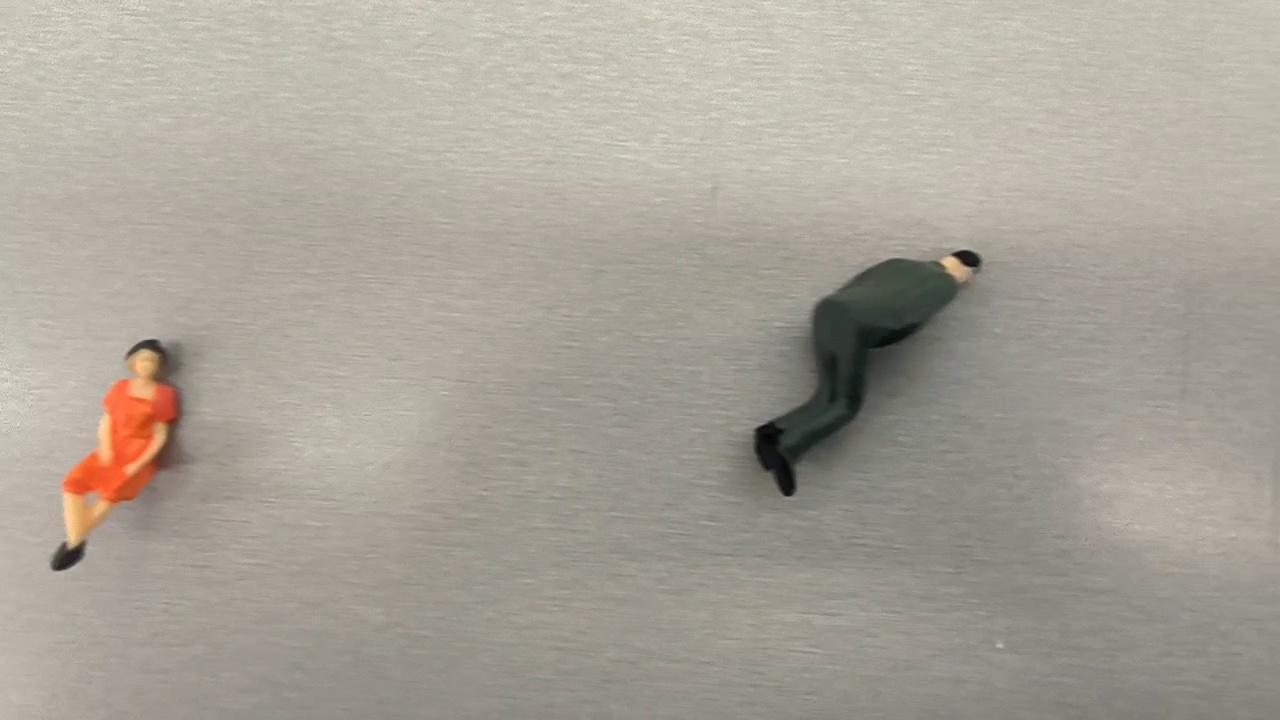human: (756, 250, 980, 494), (48, 339, 184, 569)
